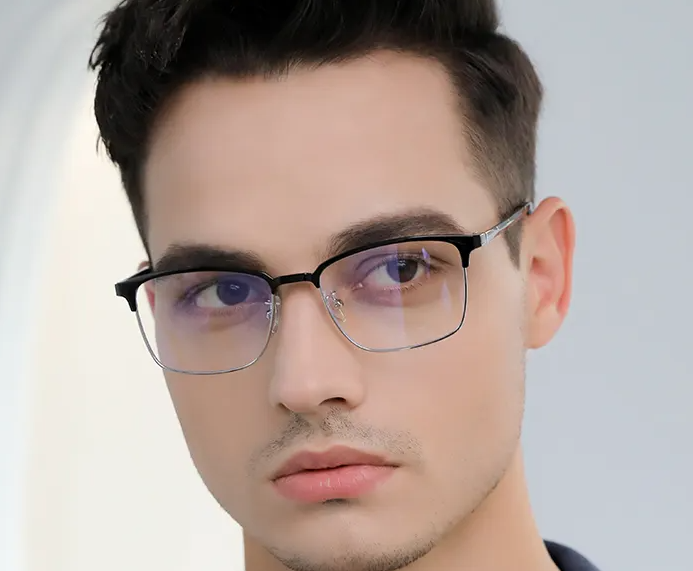glass: (116, 203, 542, 377)
mouth: (228, 431, 474, 519)
